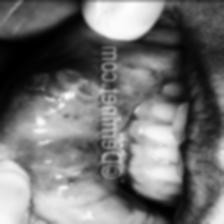Toxin: (57, 68, 95, 98), (22, 72, 50, 90)
